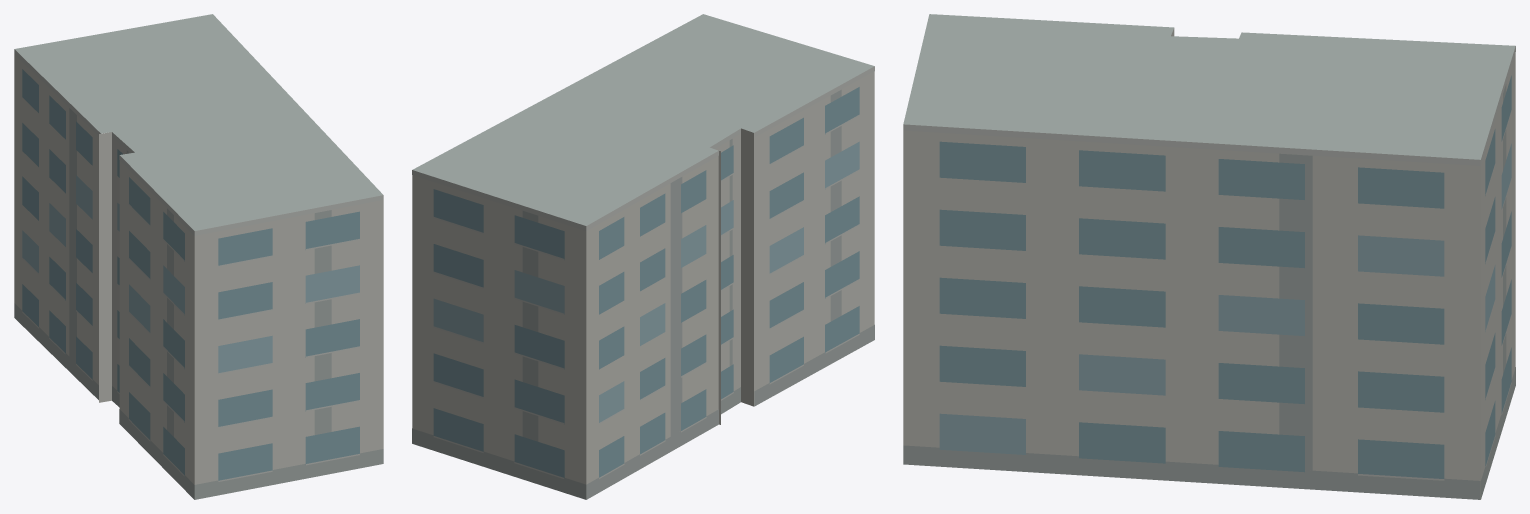
The model's file is survey-upis-32745396.glb.
The picture shows the model from 3 angles, left to right: view 1: azimuth 30°, elevation 25°; view 2: azimuth 150°, elevation 25°; view 3: azimuth 270°, elevation 25°; orthographic projection. The views are drawn at different scales.
Parts seen in each view (by area): view 1: survey-upis-32745396.tmp; view 2: survey-upis-32745396.tmp; view 3: survey-upis-32745396.tmp.
Part boxes in pixels (box(x1,y1,x2,y2)): survey-upis-32745396.tmp: box(14, 14, 383, 499); survey-upis-32745396.tmp: box(412, 14, 874, 499); survey-upis-32745396.tmp: box(903, 14, 1515, 499).
Size of the model in its own units: 12.24 by 13.3 by 21.72.
